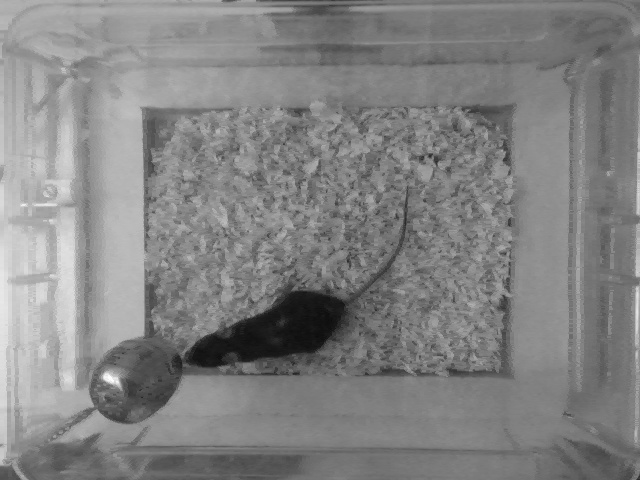mice: (176, 180, 417, 372)
